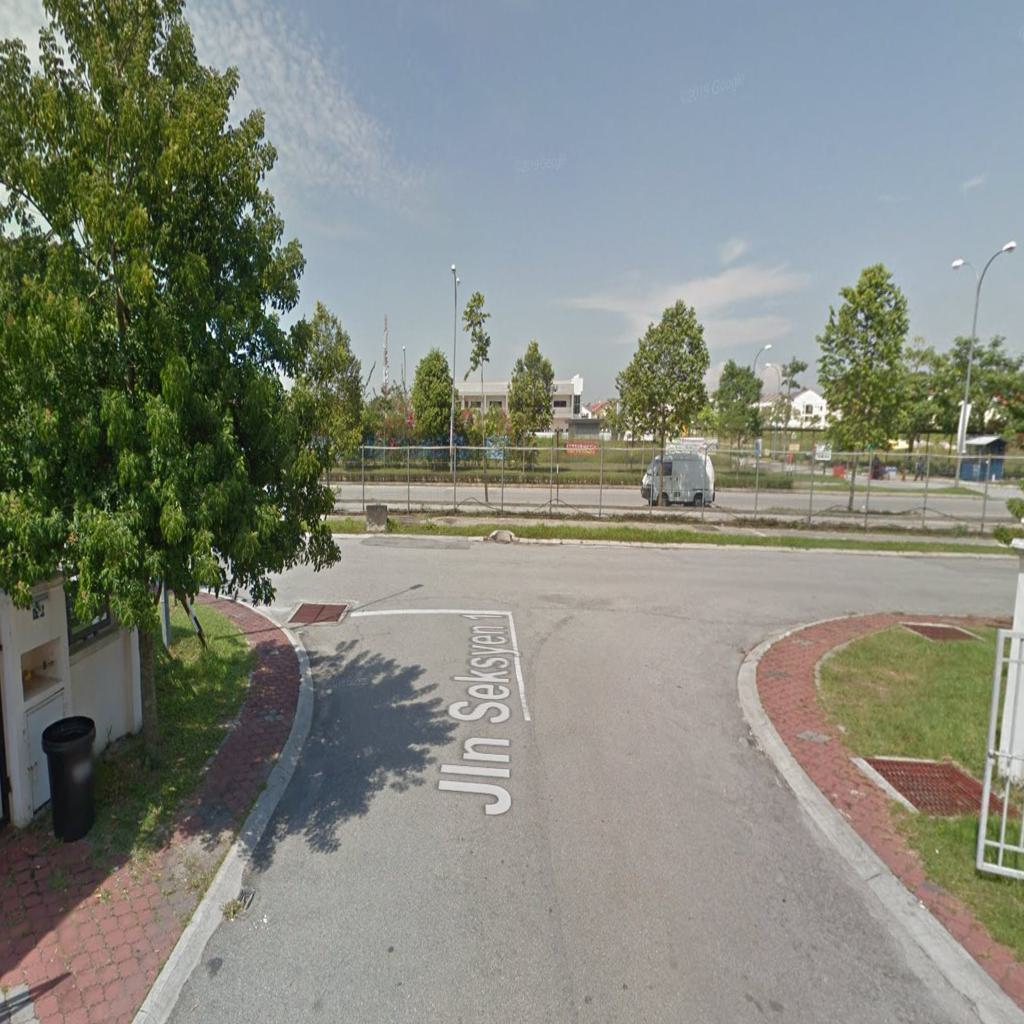Junction: (701, 500, 995, 705), (167, 483, 384, 674)
